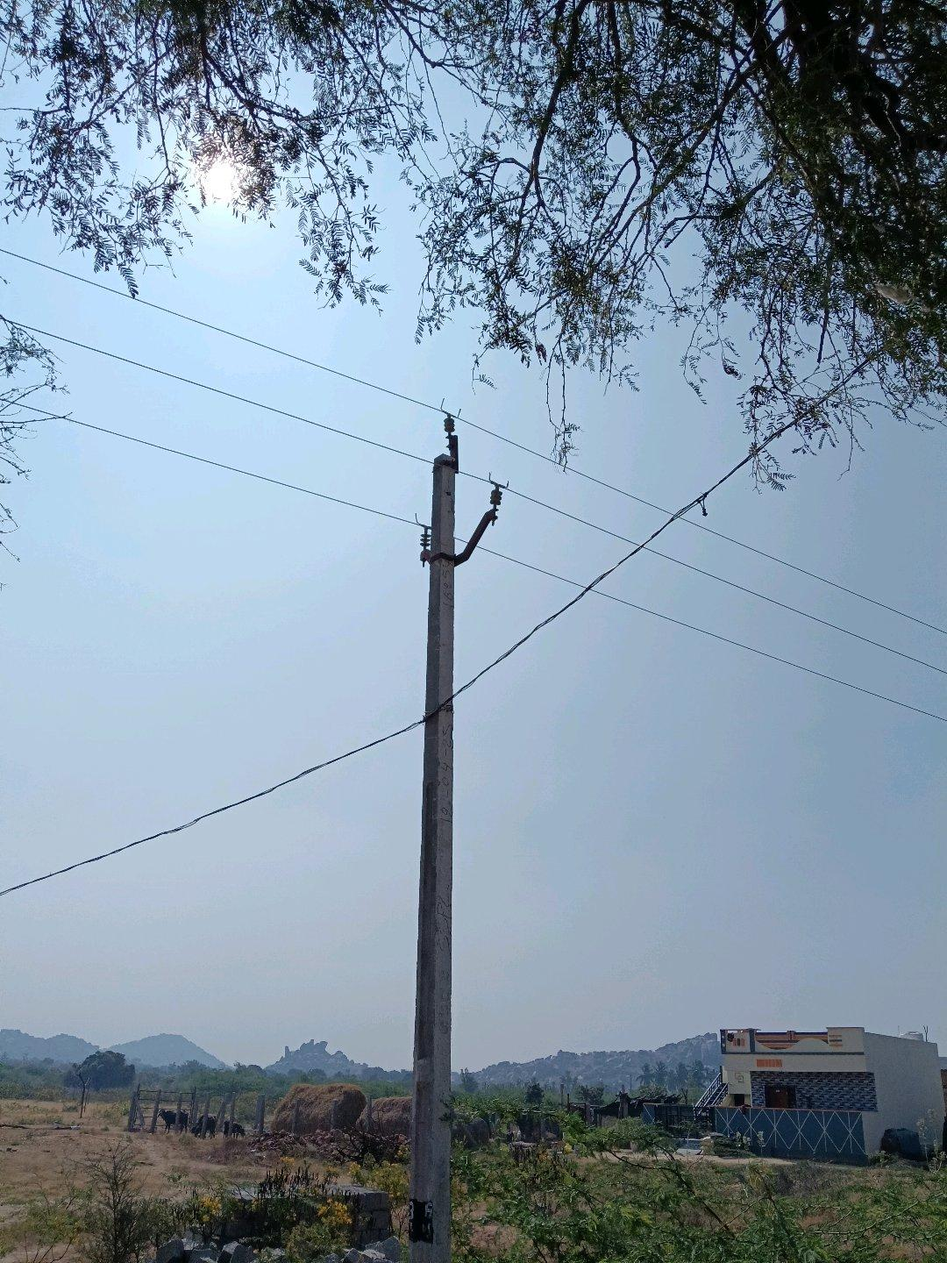{"0" "insulator", "1" "pole", "2" "crossarm", "3" "conductor", "4" "street_: (409, 415, 502, 1262), (381, 737, 386, 739)
